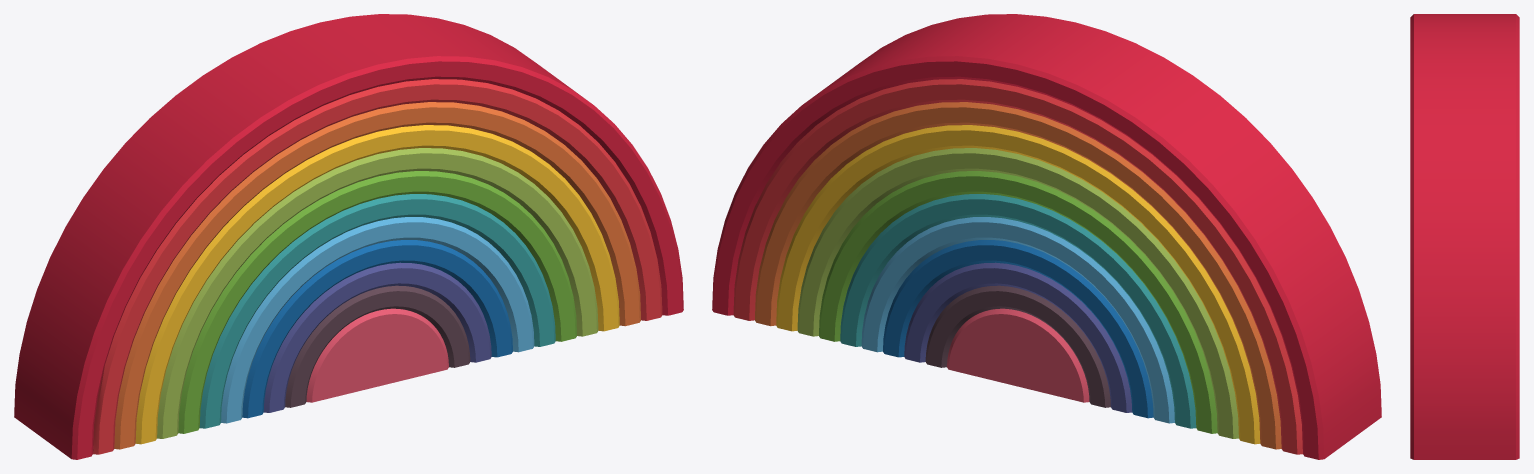
The model's file is baby_toy3.fbx.
3 renders of one model, left to right at view 1: azimuth 30°, elevation 25°; view 2: azimuth 150°, elevation 25°; view 3: azimuth 270°, elevation 25°, orthographic. The views are drawn at different scales.
Visible parts, largest first — view 1: rainbow toy.011, rainbow toy.010, rainbow toy.009, rainbow toy.008, rainbow toy.007, rainbow toy.006, rainbow toy.005, rainbow toy.004, rainbow toy.003, rainbow toy.000, rainbow toy.002, rainbow toy.001; view 2: rainbow toy.011, rainbow toy.010, rainbow toy.009, rainbow toy.008, rainbow toy.007, rainbow toy.006, rainbow toy.005, rainbow toy.004, rainbow toy.003, rainbow toy.000, rainbow toy.002, rainbow toy.001; view 3: rainbow toy.011.
Boxes of the visible parts, left/top/right/bottom form: rainbow toy.011: left=14, top=14, right=683, bottom=459; rainbow toy.010: left=93, top=79, right=662, bottom=454; rainbow toy.009: left=114, top=102, right=640, bottom=449; rainbow toy.008: left=135, top=125, right=619, bottom=444; rainbow toy.007: left=157, top=148, right=598, bottom=438; rainbow toy.006: left=178, top=171, right=576, bottom=433; rainbow toy.005: left=199, top=194, right=555, bottom=428; rainbow toy.004: left=221, top=217, right=534, bottom=423; rainbow toy.003: left=242, top=240, right=512, bottom=418; rainbow toy.000: left=306, top=308, right=448, bottom=402; rainbow toy.002: left=263, top=262, right=491, bottom=412; rainbow toy.001: left=285, top=285, right=470, bottom=407; rainbow toy.011: left=712, top=14, right=1381, bottom=459; rainbow toy.010: left=733, top=79, right=1302, bottom=454; rainbow toy.009: left=755, top=102, right=1281, bottom=449; rainbow toy.008: left=776, top=125, right=1260, bottom=444; rainbow toy.007: left=797, top=148, right=1238, bottom=438; rainbow toy.006: left=819, top=171, right=1217, bottom=433; rainbow toy.005: left=840, top=194, right=1196, bottom=428; rainbow toy.004: left=861, top=217, right=1174, bottom=423; rainbow toy.003: left=883, top=240, right=1153, bottom=418; rainbow toy.000: left=947, top=308, right=1089, bottom=402; rainbow toy.002: left=904, top=262, right=1132, bottom=412; rainbow toy.001: left=925, top=285, right=1110, bottom=407; rainbow toy.011: left=1410, top=14, right=1519, bottom=459.
Bounding box in the file's own units: 35.93 × 17.96 × 6.27.
